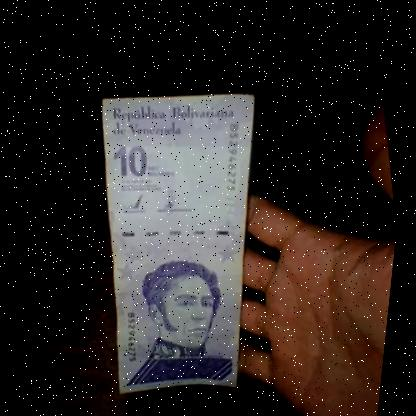ten-front-vef: (66, 63, 317, 409)
